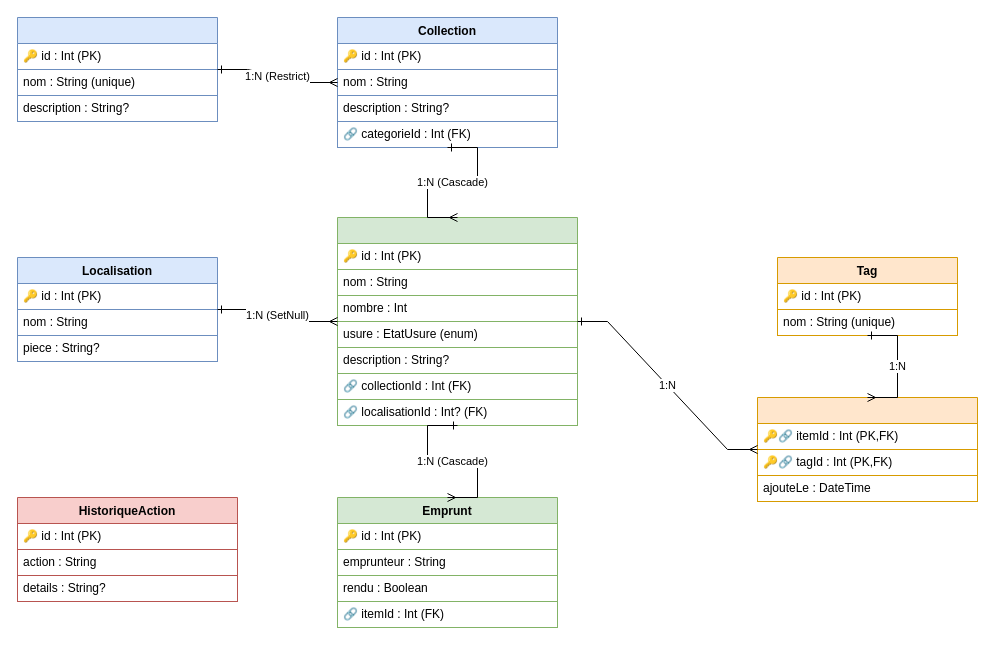
The diagram is 995 pixels wide and 645 high, and some of its shapes have lost their labels. Here are the shapes that lost their labels. From the top down, the box of each, then its label:
(16, 16, 218, 122): Categorie
(336, 216, 578, 426): Item
(756, 396, 978, 502): ItemTag (jonction N:M)
